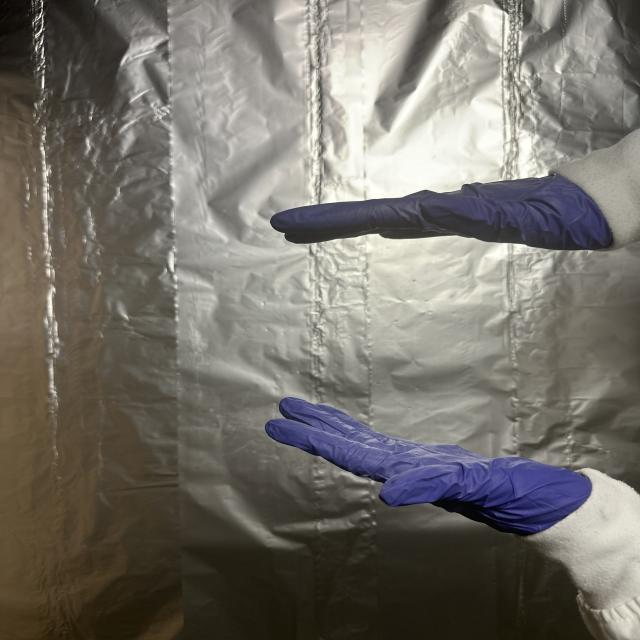gloves_contaminated: (266, 398, 591, 536), (270, 176, 612, 250)
